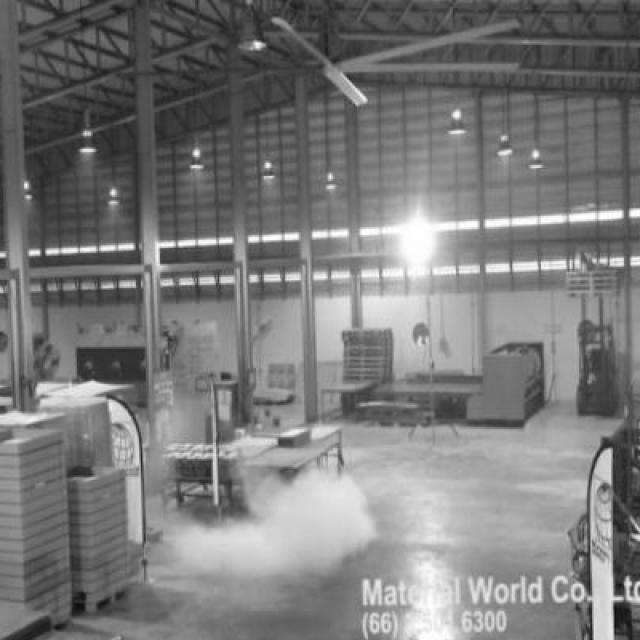fire: (178, 460, 388, 583)
